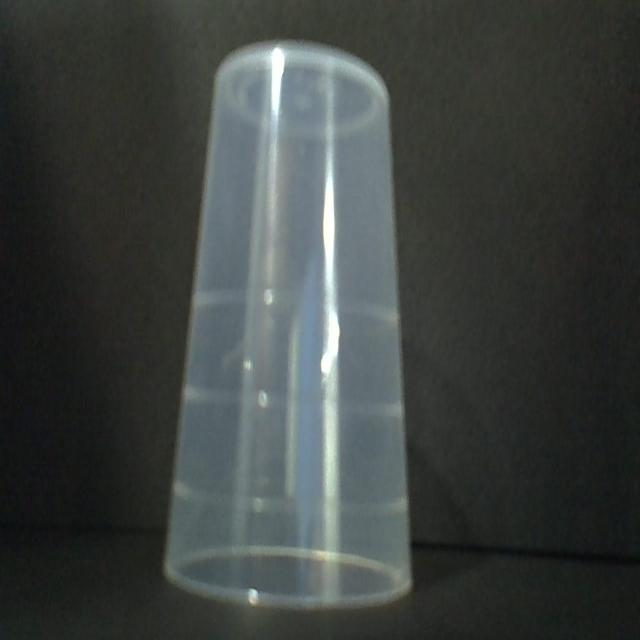cup: (163, 37, 418, 609)
